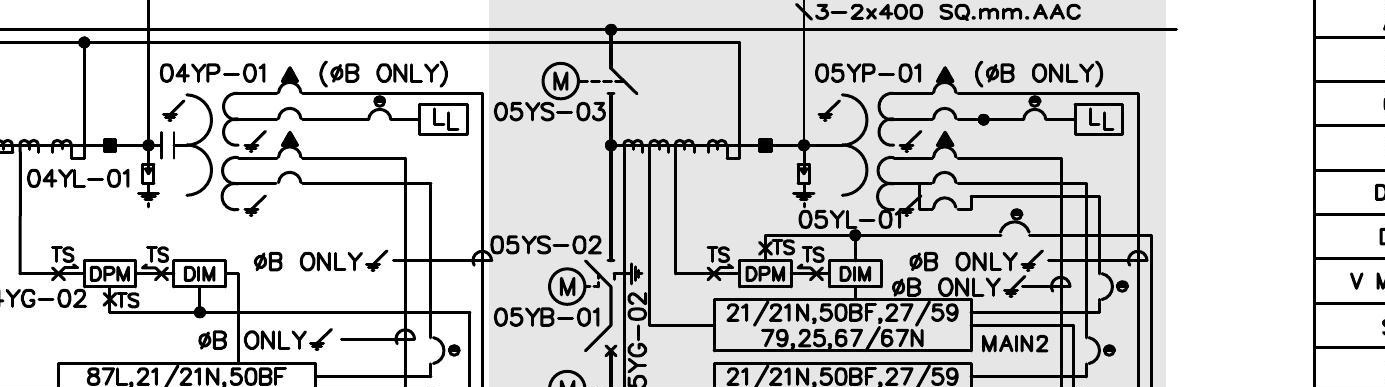115_1way_ds_w_motor: (540, 61, 639, 101)
115_3ways_ds_w_motor: (547, 259, 644, 307)
115_breaker: (583, 324, 618, 358)
115_cvt_1p: (159, 66, 305, 218)
115_la: (136, 163, 161, 209), (792, 163, 816, 209)
115_vt_1p: (817, 66, 960, 217)
DIM: (172, 259, 227, 289), (828, 259, 883, 289)
DPM: (738, 259, 793, 289), (83, 259, 137, 288)
LL: (1073, 103, 1125, 137), (418, 103, 469, 137)
